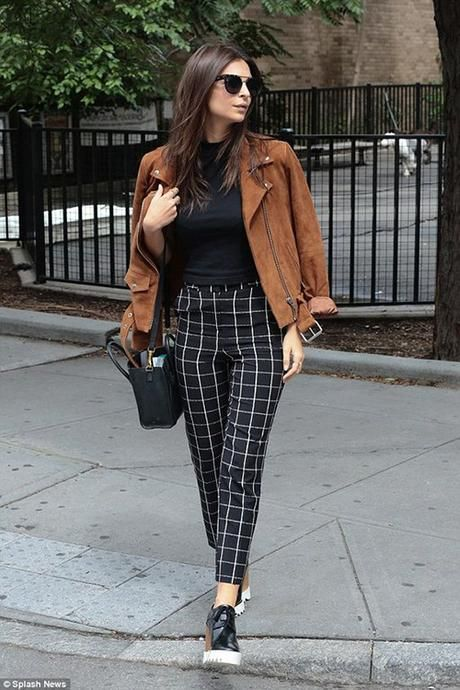gamuza: (121, 132, 333, 332)
